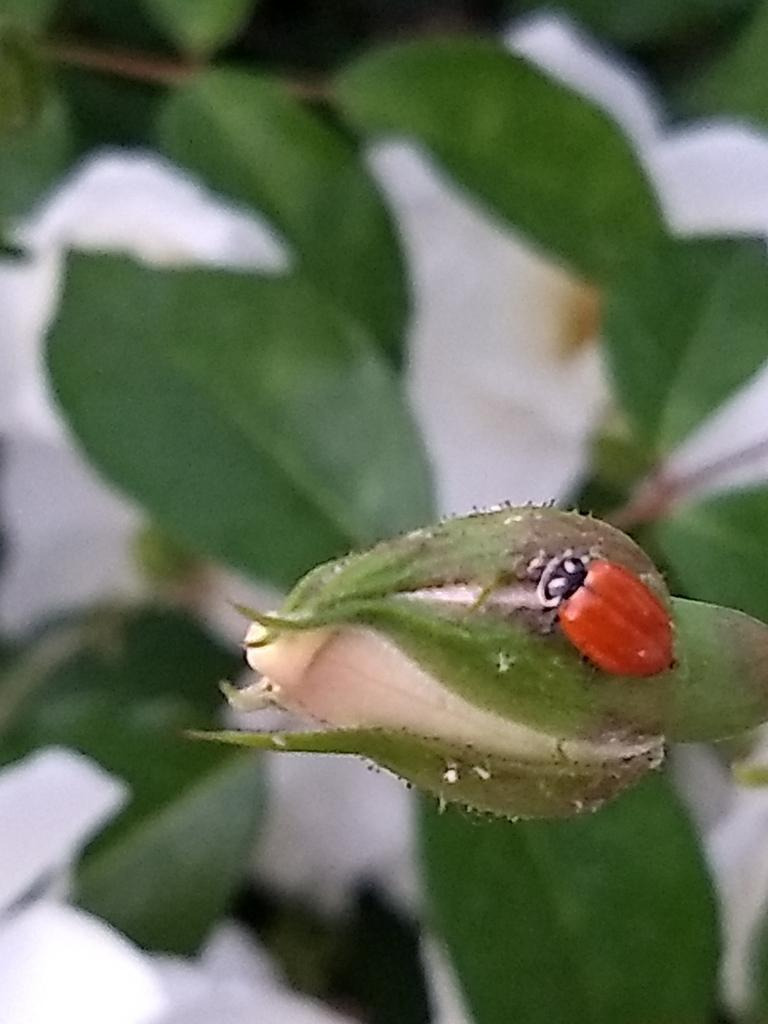ladybug: (532, 549, 677, 681)
